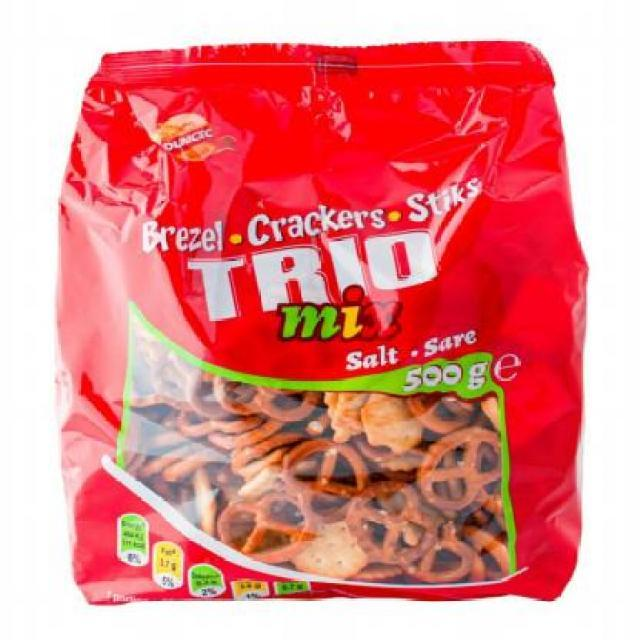Salatini: (39, 30, 598, 622)
